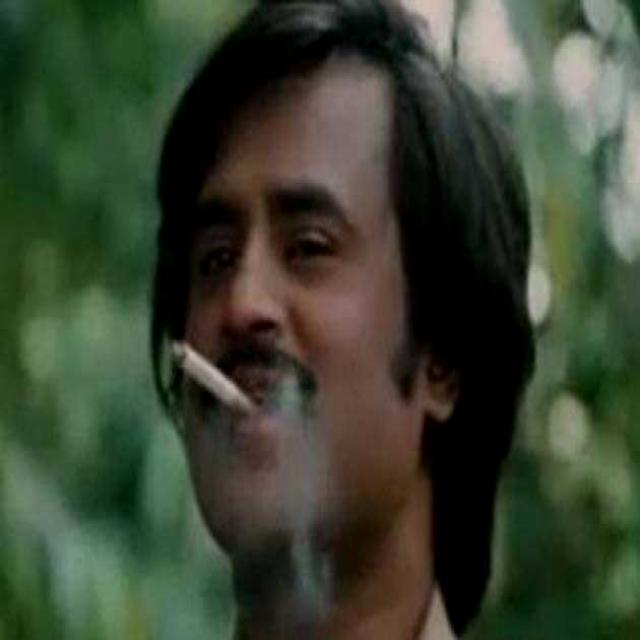Smooking: (160, 334, 263, 433)
